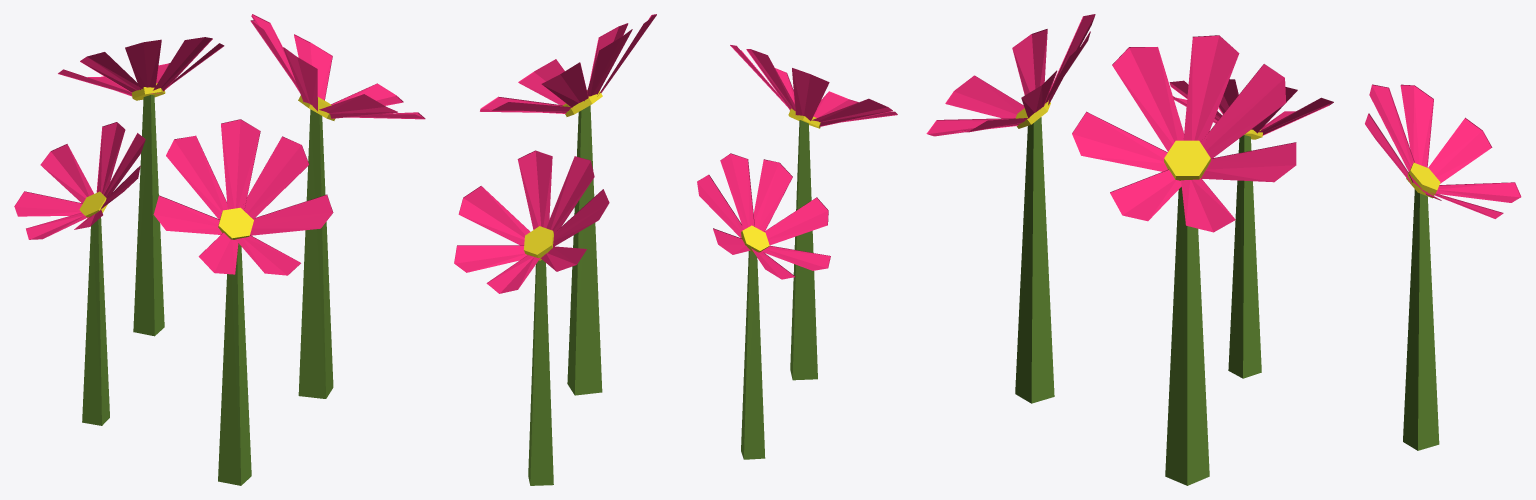
3 renders of one model, left to right at view 1: azimuth 30°, elevation 25°; view 2: azimuth 150°, elevation 25°; view 3: azimuth 270°, elevation 25°, orthographic. The views are drawn at different scales.
Visible parts, largest first — view 1: Daisys_Circle.003; view 2: Daisys_Circle.003; view 3: Daisys_Circle.003.
Boxes of the visible parts, x1=… form: Daisys_Circle.003: x1=14, y1=14, x2=425, y2=485; Daisys_Circle.003: x1=454, y1=14, x2=897, y2=485; Daisys_Circle.003: x1=926, y1=14, x2=1521, y2=485.
Size of the model in its own units: 1.17 by 1.17 by 1.53.
